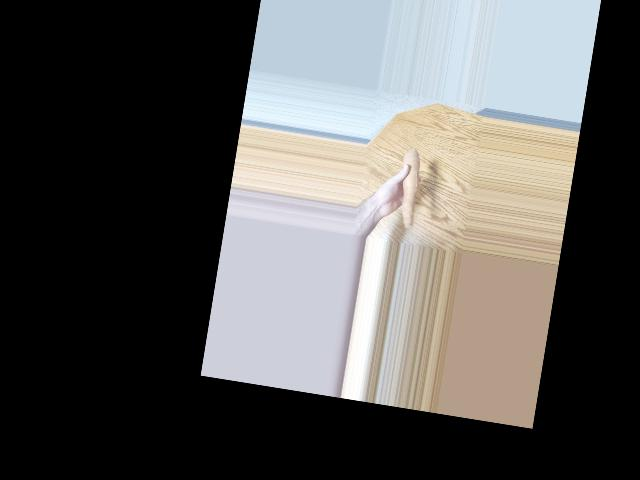sweet_potato: (395, 149, 425, 232)
